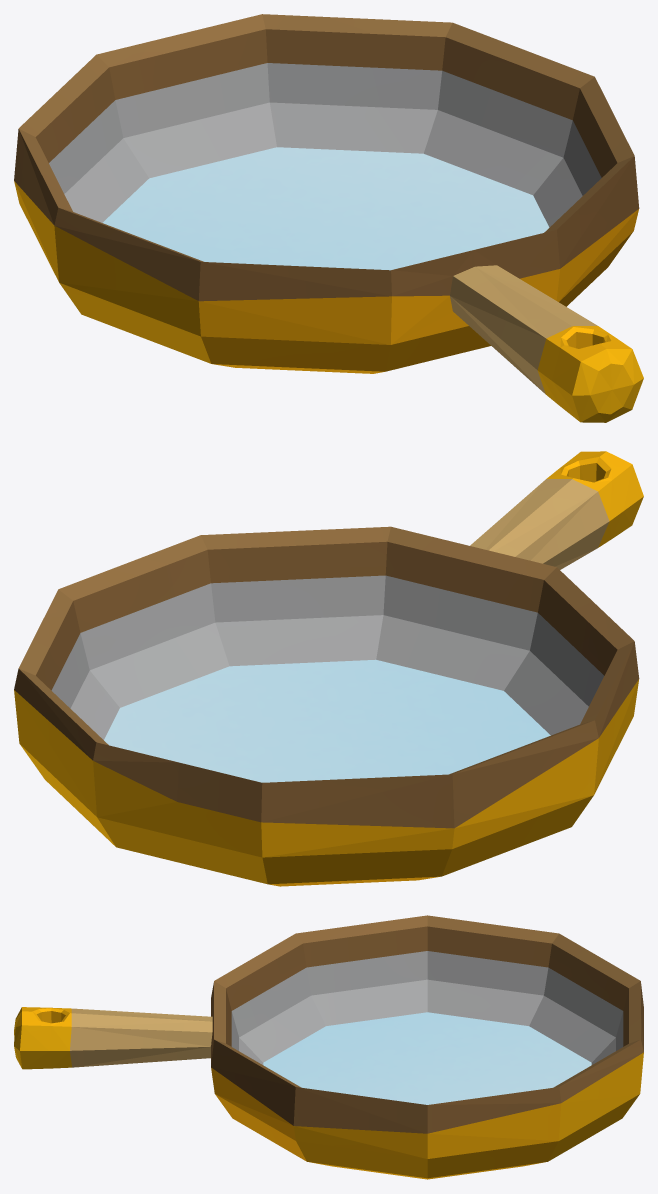
Rendered from pan.dae.
3 renders of one model, top to bottom at view 1: azimuth 30°, elevation 25°; view 2: azimuth 150°, elevation 25°; view 3: azimuth 270°, elevation 25°, orthographic. The views are drawn at different scales.
Parts seen in each view (by area): view 1: pan; view 2: pan; view 3: pan.
Boxes of the visible parts, <box> form: pan: <box>14,14,643,422</box>; pan: <box>14,451,643,886</box>; pan: <box>14,915,643,1179</box>.
Bounding box in the file's own units: 0.4336 × 0.6001 × 0.1057.
